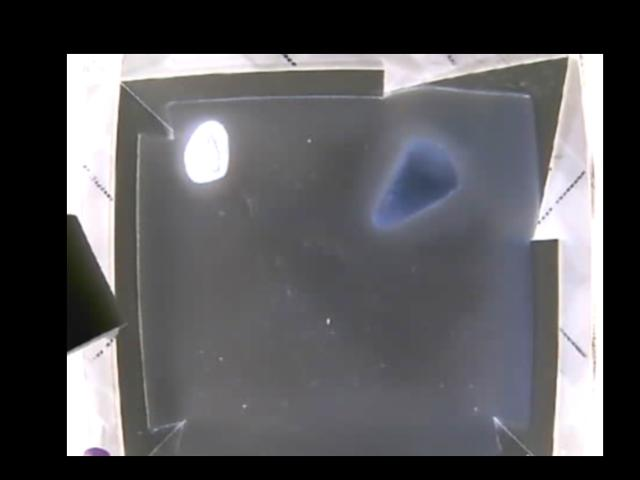Mooli: (371, 138, 460, 231)
Pebble: (183, 123, 231, 183)
